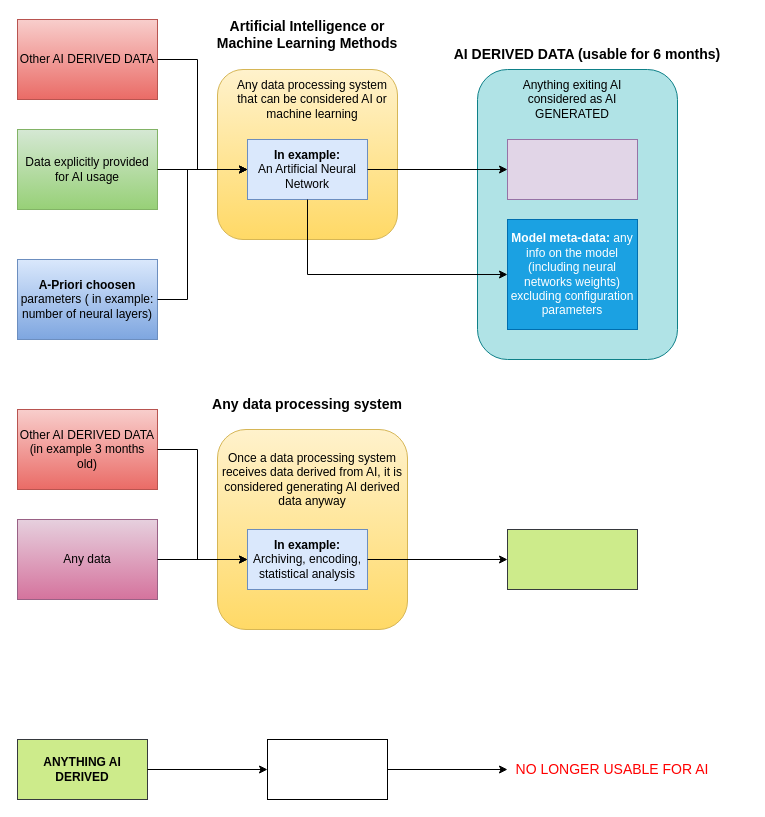
This 765x817 diagram has some shape labels left out. Each missing label, with the centre of its shape:
"6 months" belongs at point (327, 769).
"AI DERIVED DATA (usable for only 3 months)" belongs at point (572, 559).
"Generated output" belongs at point (572, 169).
